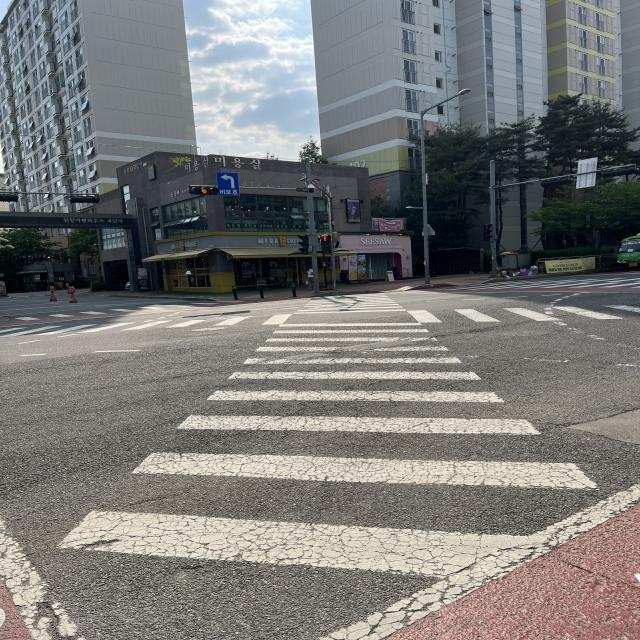red-crossing: (316, 225, 332, 249)
